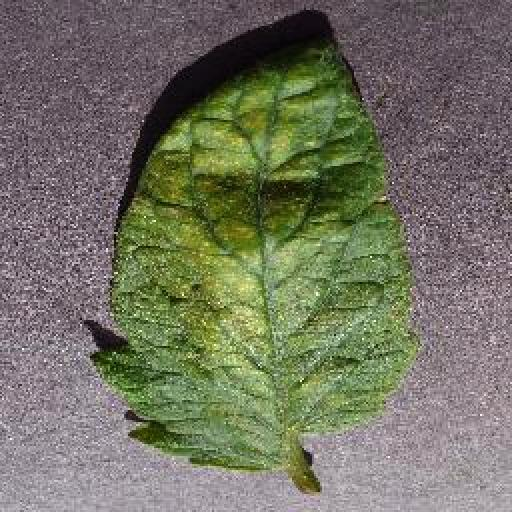disease_tomato: (89, 40, 415, 472)
